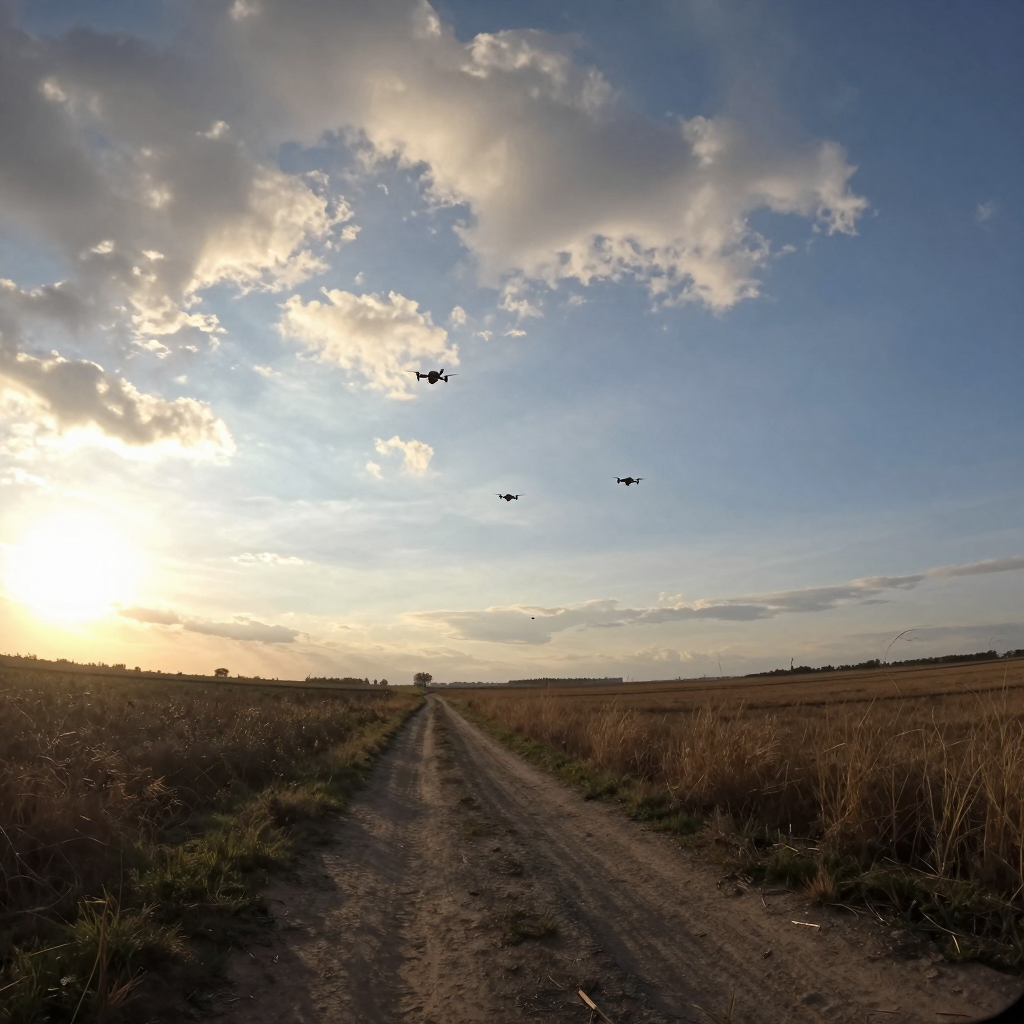drone: (406, 369, 458, 384), (612, 477, 645, 486), (494, 493, 526, 502)
